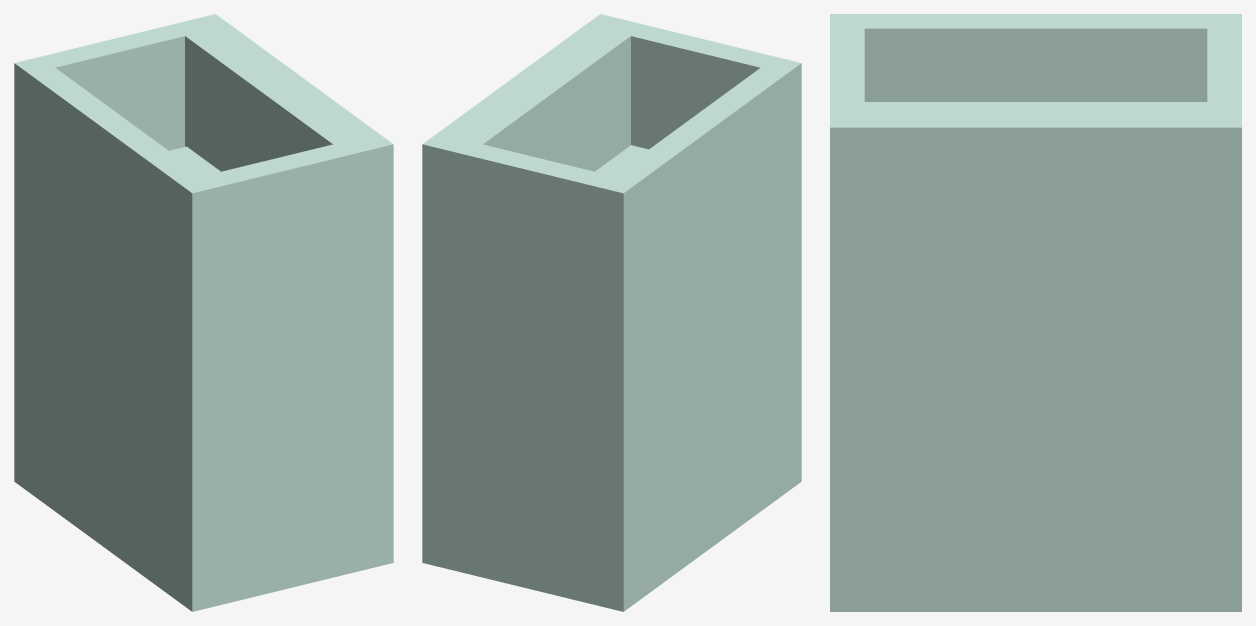
3 renders of one model, left to right at view 1: azimuth 30°, elevation 25°; view 2: azimuth 150°, elevation 25°; view 3: azimuth 270°, elevation 25°, orthographic. The views are drawn at different scales.
Visible parts, largest first — view 1: Renderer Node; view 2: Renderer Node; view 3: Renderer Node.
Part boxes in pixels (x1=…): Renderer Node: x1=14, y1=14, x2=393, y2=611; Renderer Node: x1=422, y1=14, x2=801, y2=611; Renderer Node: x1=830, y1=14, x2=1241, y2=611.
Size of the model in its own units: 0.3773 by 0.75 by 0.5781.
